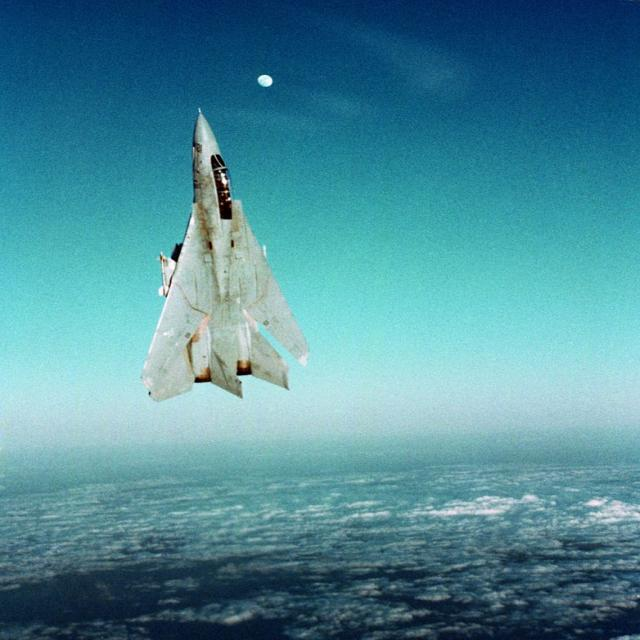MIL_Plane: (140, 107, 311, 403)
